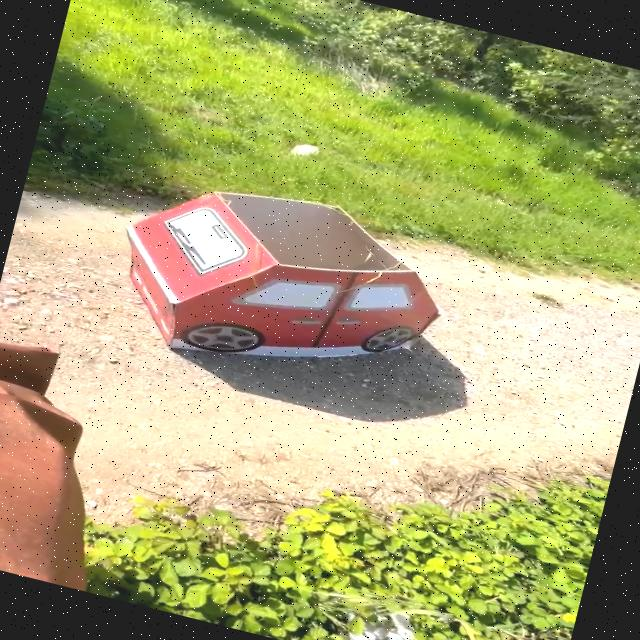red_car: (98, 148, 468, 425)
